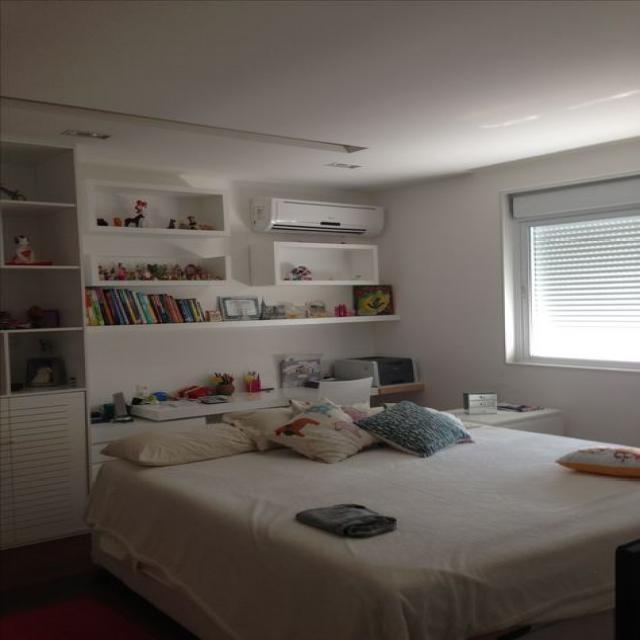AC: (247, 194, 386, 238)
